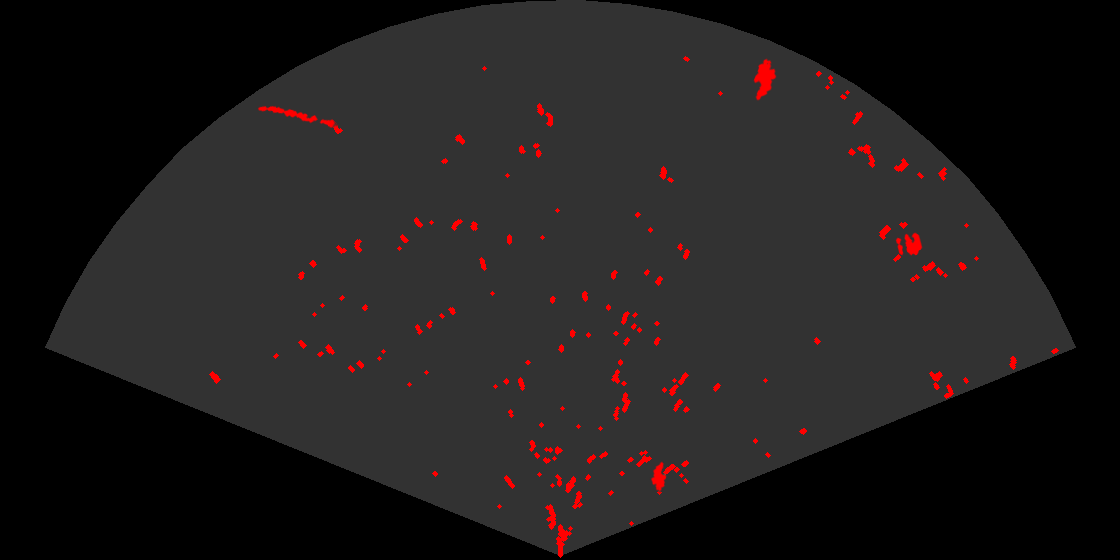AUV: (752, 57, 778, 102), (649, 460, 668, 493)
ball: (894, 231, 924, 257)
chain: (256, 104, 339, 129)
